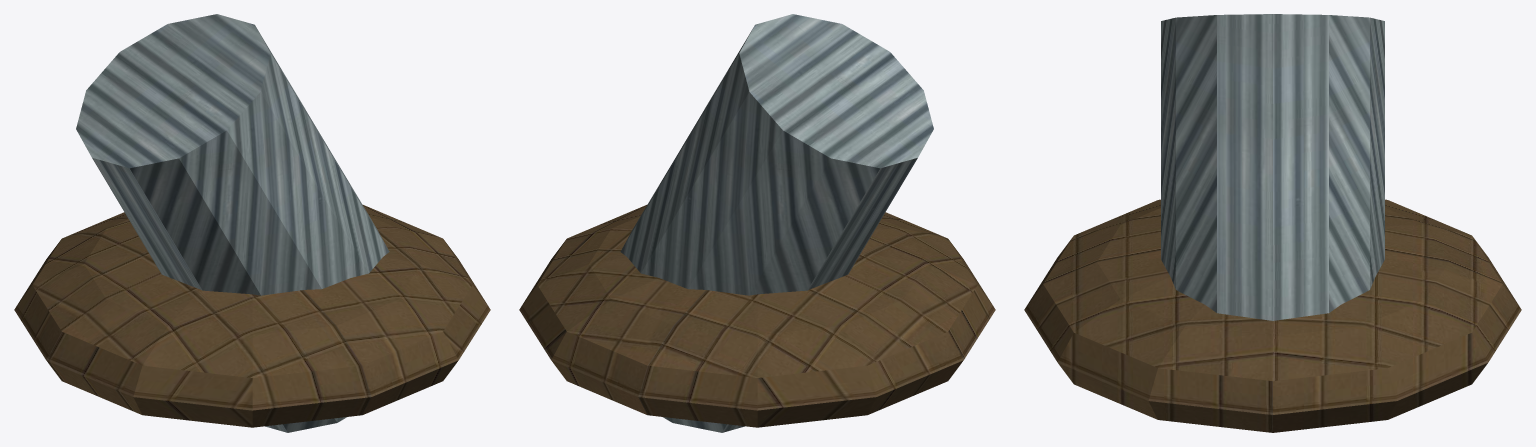
Rendered from time_capsule_01.glb.
3 renders of one model, left to right at view 1: azimuth 30°, elevation 25°; view 2: azimuth 150°, elevation 25°; view 3: azimuth 270°, elevation 25°, orthographic. The views are drawn at different scales.
Parts seen in each view (by area): view 1: time_capsule_01; view 2: time_capsule_01; view 3: time_capsule_01.
Part boxes in pixels (<box>): time_capsule_01: <box>14,14,490,432</box>; time_capsule_01: <box>519,14,995,432</box>; time_capsule_01: <box>1024,14,1521,432</box>.
Size of the model in its own units: 2 by 1.84 by 2.
2 materials, 2 textured.
